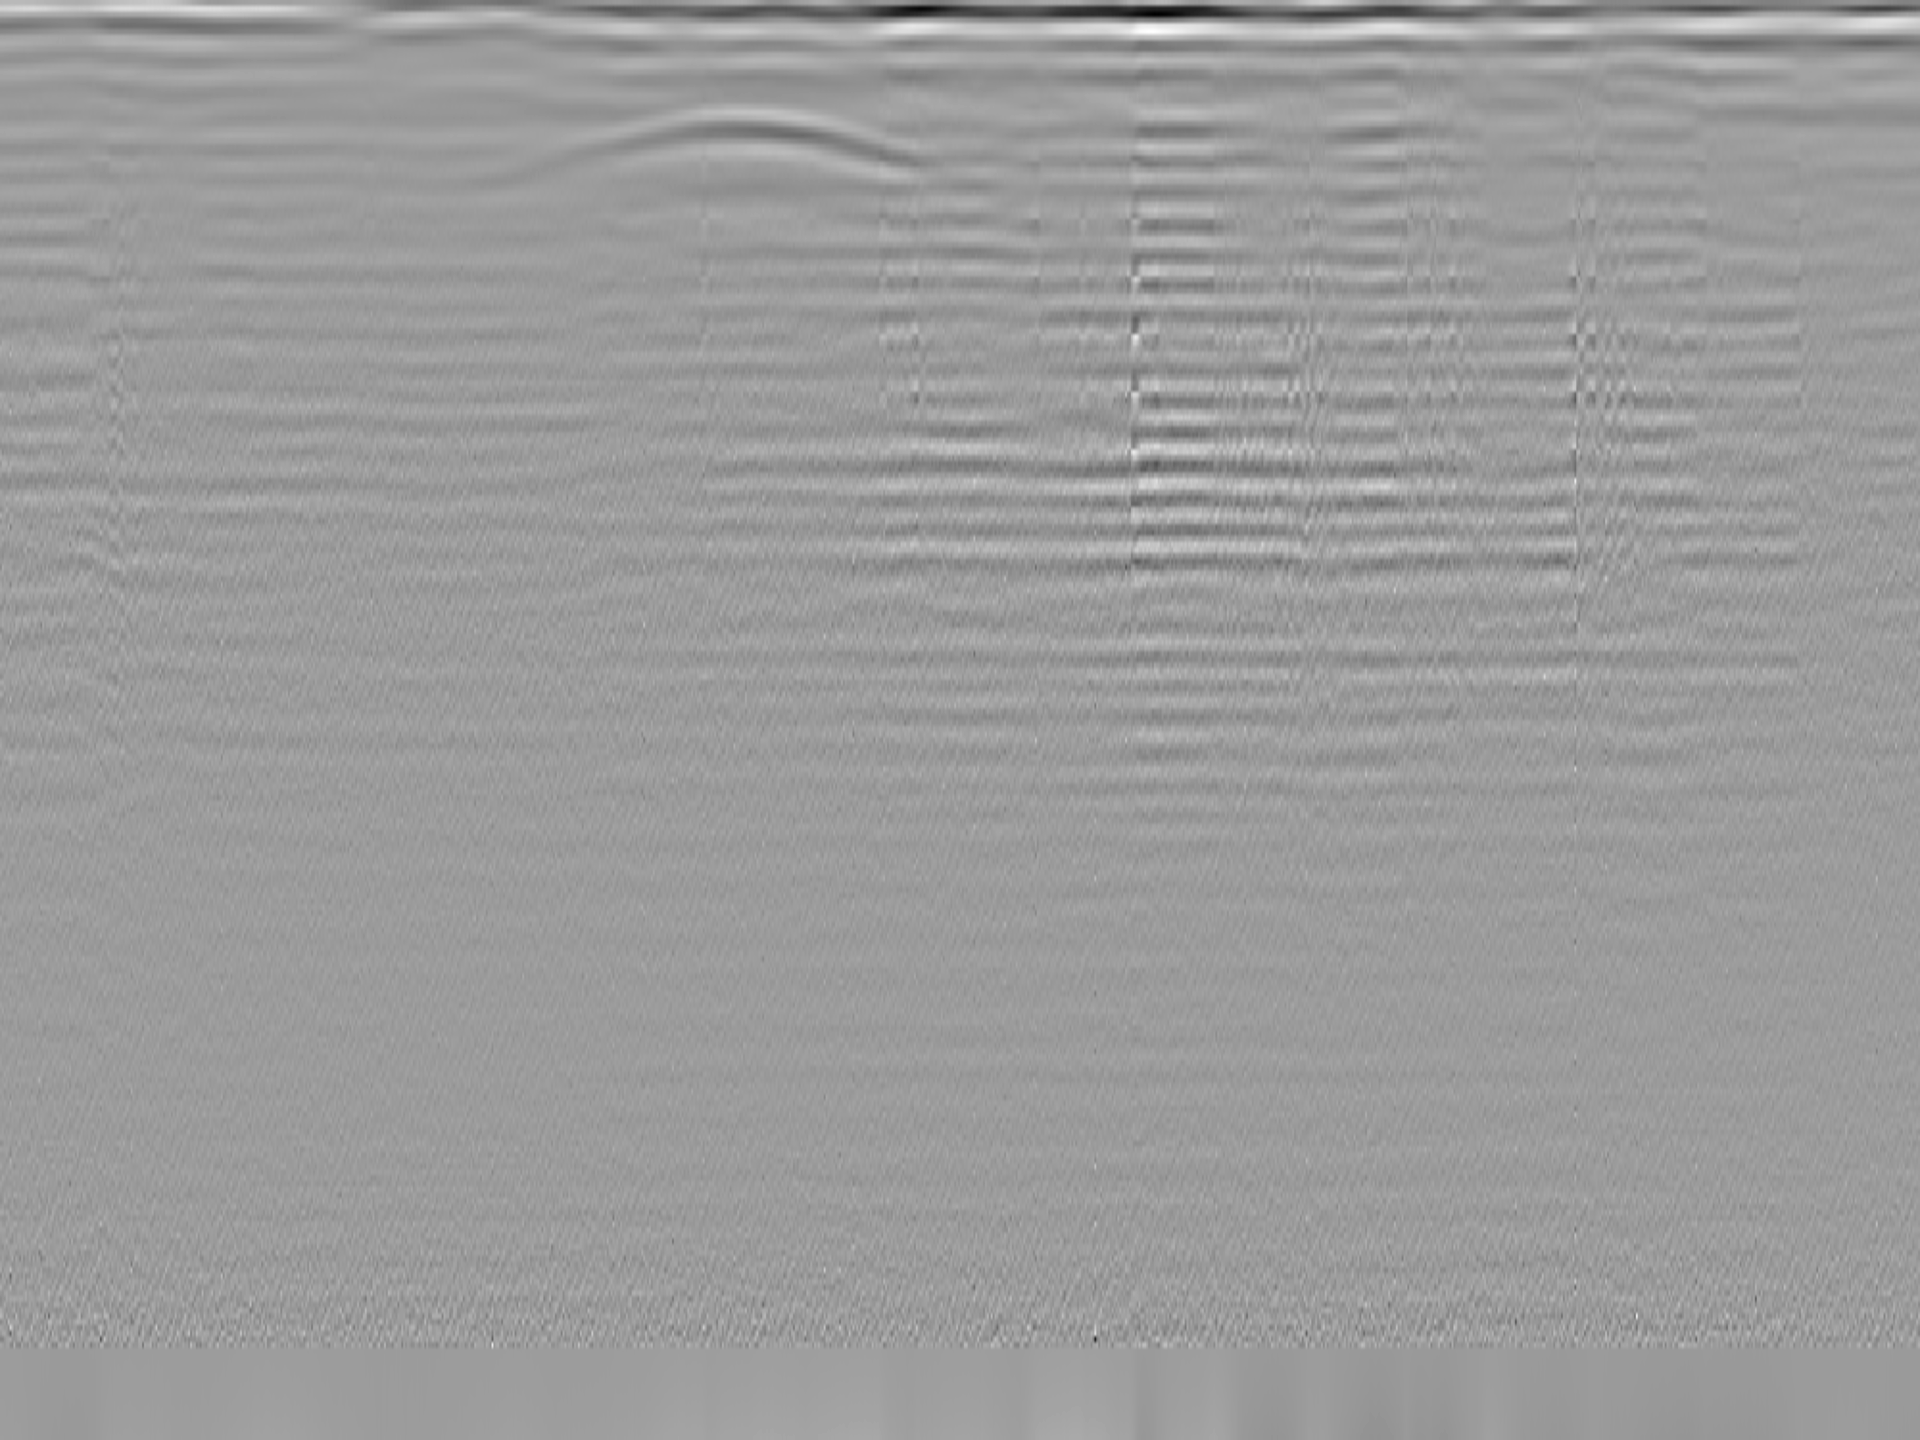Tunnel: (466, 109, 983, 191)
